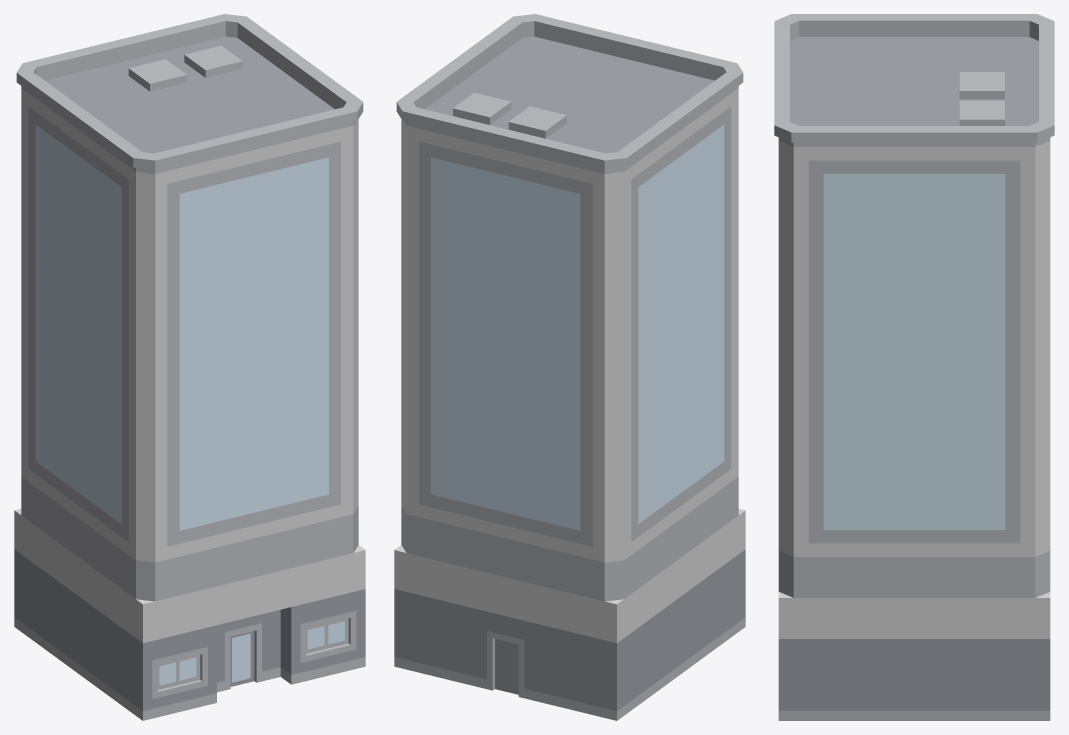
Rendered from SkyscraperA-transformed.glb.
3 renders of one model, left to right at view 1: azimuth 30°, elevation 25°; view 2: azimuth 150°, elevation 25°; view 3: azimuth 270°, elevation 25°, orthographic. The views are drawn at different scales.
Parts seen in each view (by area): view 1: skyscraperA; view 2: skyscraperA; view 3: skyscraperA.
Boxes of the visible parts, box(x1,y1,x2,y2) form: skyscraperA: box(14, 14, 365, 720); skyscraperA: box(394, 14, 745, 720); skyscraperA: box(774, 14, 1054, 720).
Bounding box in the file's own units: 1.24 × 2.88 × 1.24.
